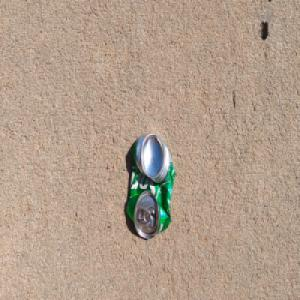SodaCan: (125, 131, 175, 240)
